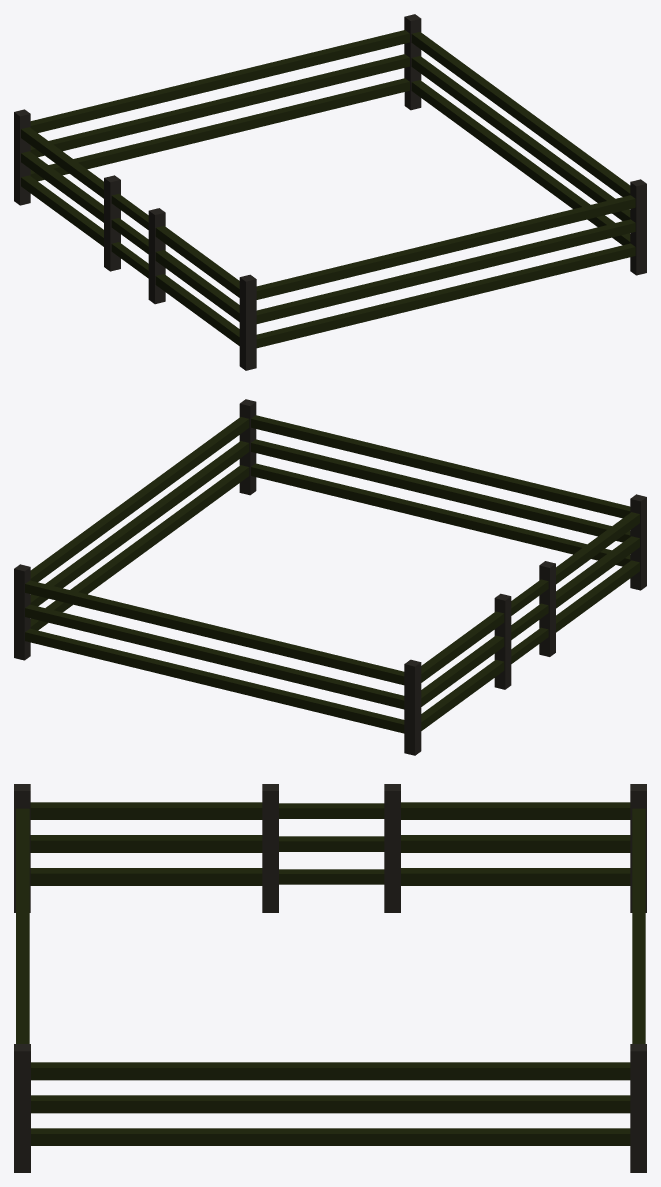
File: cage.FBX
3 renders of one model, top to bottom at view 1: azimuth 30°, elevation 25°; view 2: azimuth 150°, elevation 25°; view 3: azimuth 270°, elevation 25°, orthographic. The views are drawn at different scales.
Visible parts, largest first — view 1: Box312, Box329; view 2: Box312, Box329; view 3: Box312, Box329.
Boxes of the visible parts, x1=… form: Box312: x1=14, y1=14, x2=646, y2=370; Box329: x1=111, y1=194, x2=148, y2=278; Box312: x1=14, y1=399, x2=646, y2=755; Box329: x1=511, y1=579, x2=548, y2=663; Box312: x1=14, y1=784, x2=646, y2=1172; Box329: x1=279, y1=803, x2=384, y2=884.
Bounding box in the file's own units: 18.83 × 4 × 18.85.
